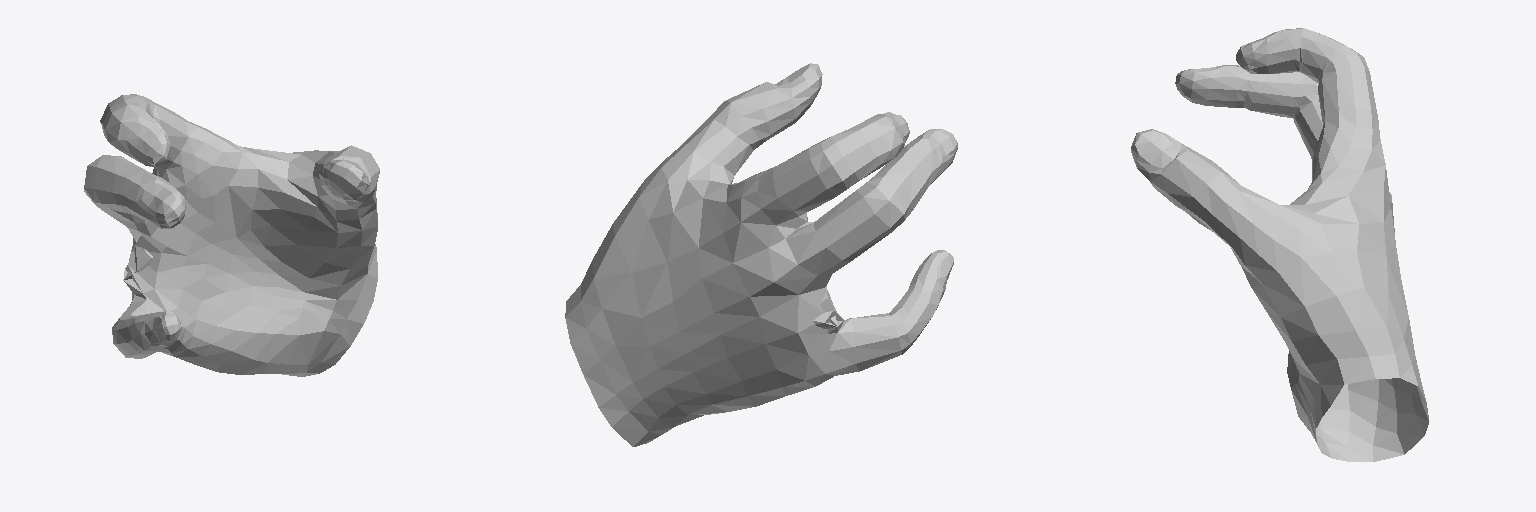
File: wo4_finger_position_param.obj
The picture shows the model from 3 angles: view 1: azimuth 30°, elevation 25°; view 2: azimuth 150°, elevation 25°; view 3: azimuth 270°, elevation 25°; orthographic projection.
Size of the model in its own units: 0.1312 by 0.139 by 0.1103.